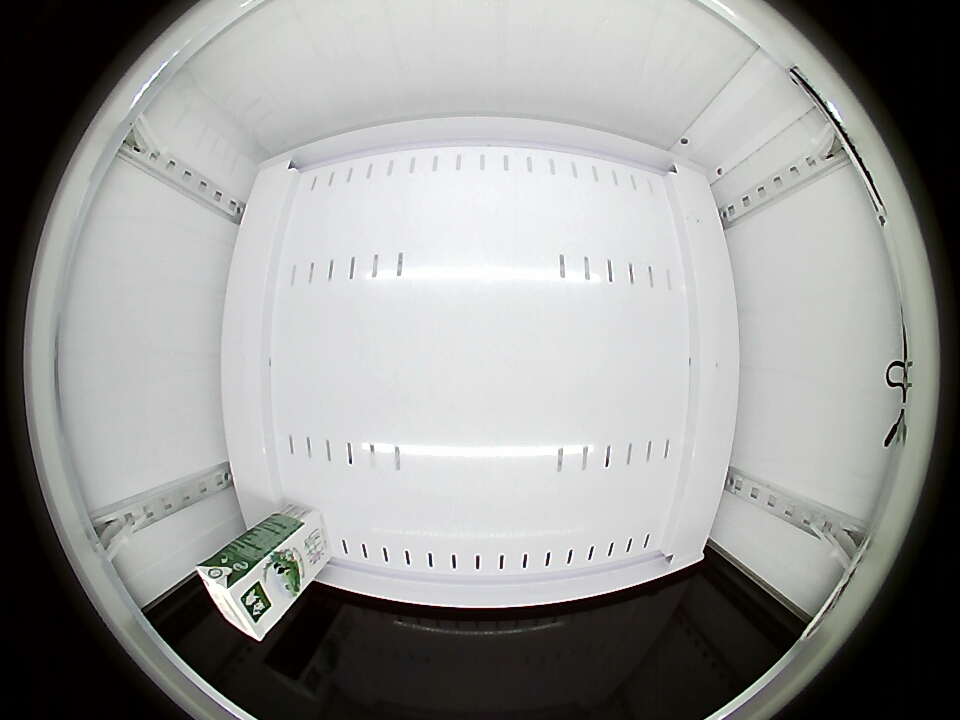jindian: (196, 545, 286, 642)
